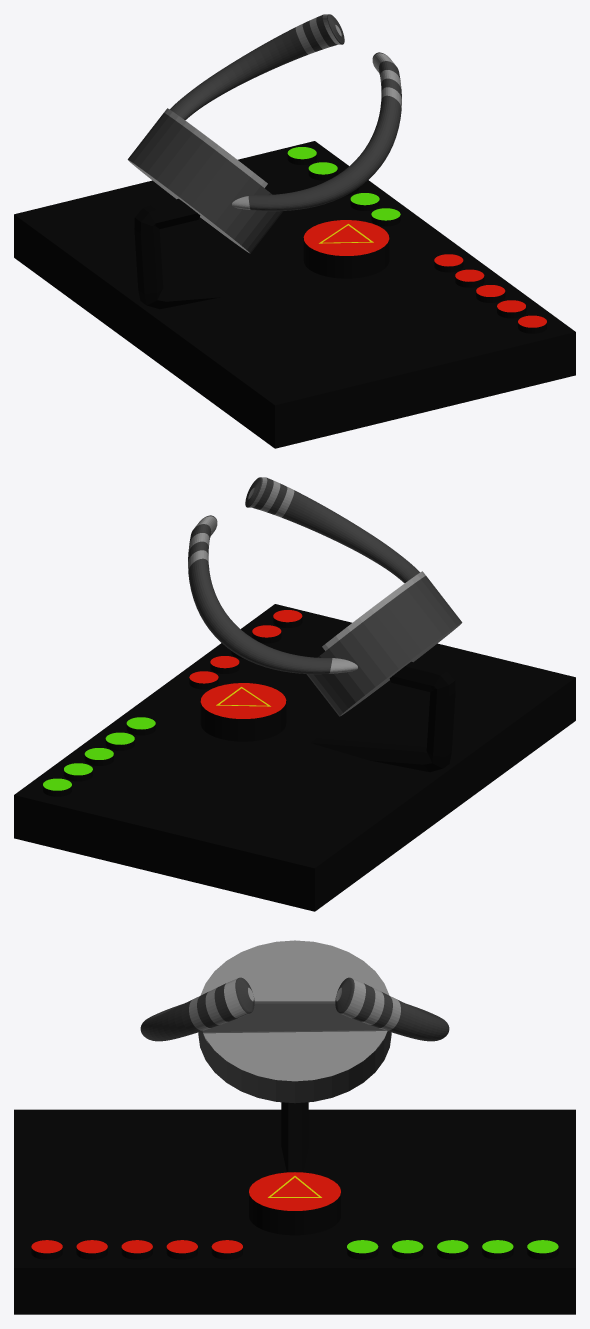
The model's file is control pannel2 - Copy.fbx.
3 renders of one model, top to bottom at view 1: azimuth 30°, elevation 25°; view 2: azimuth 150°, elevation 25°; view 3: azimuth 270°, elevation 25°, orthographic. The views are drawn at different scales.
Visible parts, largest first — view 1: Cylinder.002; view 2: Cylinder.002; view 3: Cylinder.002.
Boxes of the visible parts, x1,y1,x2,y2 form: Cylinder.002: [14, 14, 575, 448]; Cylinder.002: [14, 477, 575, 911]; Cylinder.002: [14, 940, 575, 1314].
Bounding box in the file's own units: 340 × 283 × 499.
